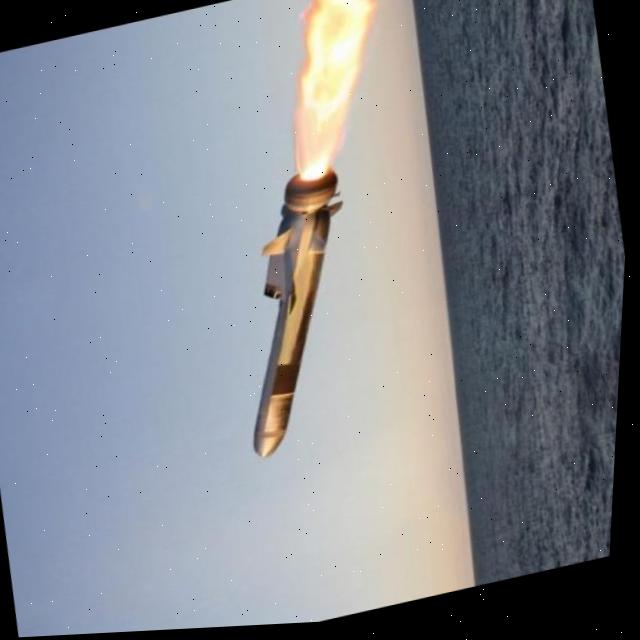missile: (199, 149, 404, 475)
